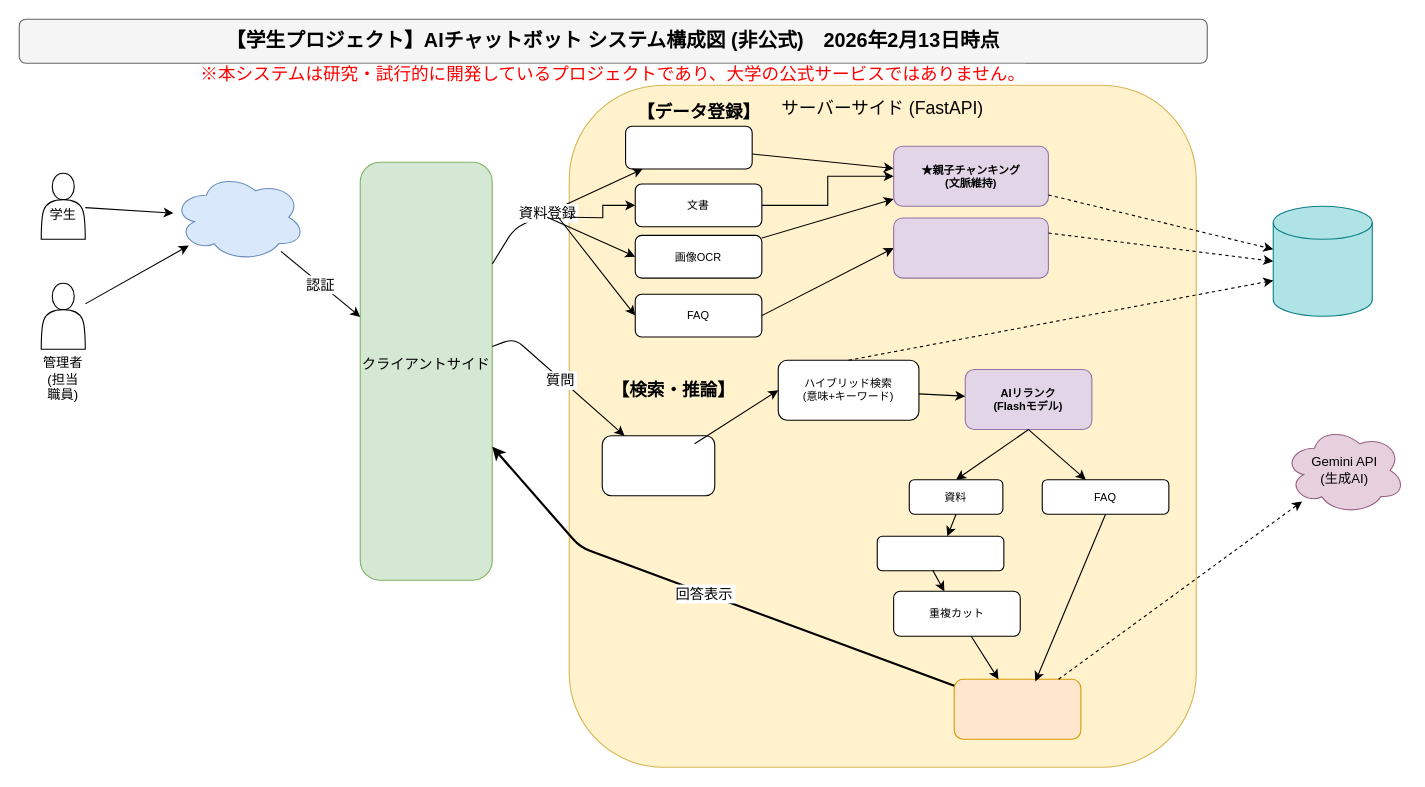
This 1425x787 diagram has some shape labels left out. The centre of each missing label's shape, as x and y in pixels:
Auth0 (認証基盤): the point at 238,216
Supabase (ベクターDB): the point at 1322,260
クエリ拡張: the point at 658,465
回答生成 (Flashモデル): the point at 1017,708
親子構造 （質問文で検索、紐づいている回答を表示）: the point at 970,247
読込/スクレイプ: the point at 688,147
配置最適化 (LitM対策): the point at 940,553
